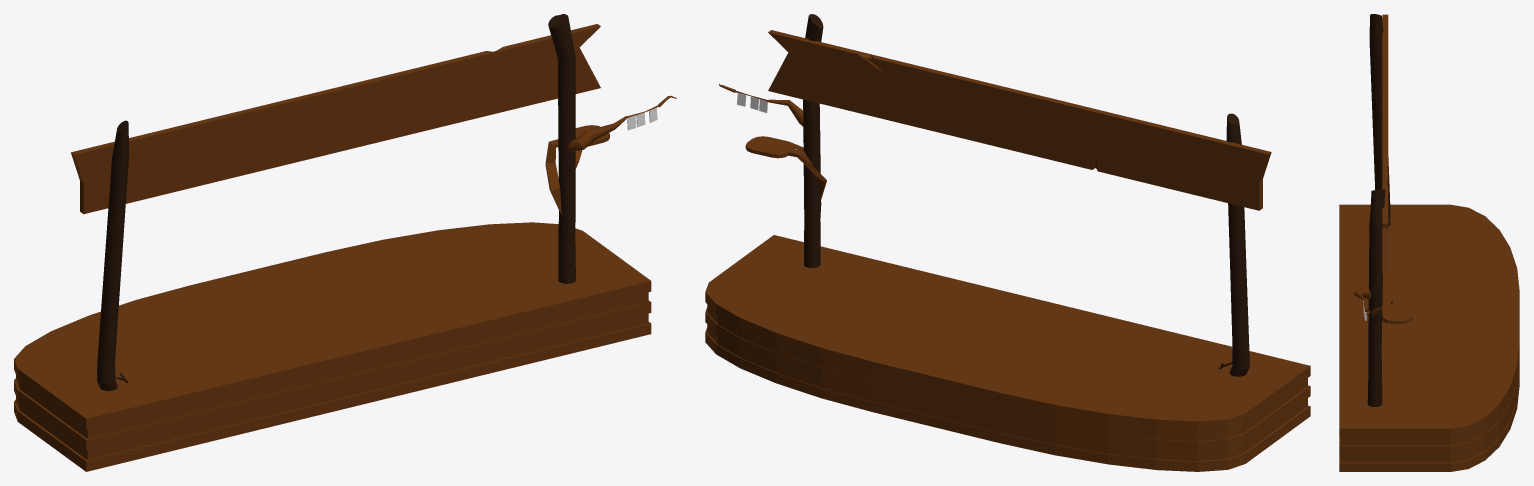
File: Stage.fbx
The picture shows the model from 3 angles, left to right: view 1: azimuth 30°, elevation 25°; view 2: azimuth 150°, elevation 25°; view 3: azimuth 270°, elevation 25°; orthographic projection. The views are drawn at different scales.
Parts seen in each view (by area): view 1: Cube, Cube.001, Cylinder.001, Cylinder, Cube.002, Cylinder.003; view 2: Cube, Cube.001, Cylinder, Cylinder.001, Cube.002; view 3: Cube, Cylinder.001, Cylinder, Cube.001, Cube.002.
Boxes of the visible parts, bbox=[...] form: Cube: bbox=[14, 222, 651, 471]; Cube.001: bbox=[71, 24, 600, 214]; Cylinder.001: bbox=[548, 14, 575, 283]; Cylinder: bbox=[97, 120, 129, 390]; Cube.002: bbox=[545, 125, 609, 214]; Cylinder.003: bbox=[568, 95, 676, 151]; Cube: bbox=[705, 235, 1310, 471]; Cube.001: bbox=[768, 30, 1271, 210]; Cylinder: bbox=[1226, 113, 1249, 376]; Cylinder.001: bbox=[803, 14, 823, 267]; Cube.002: bbox=[745, 136, 826, 199]; Cube: bbox=[1339, 204, 1519, 471]; Cylinder.001: bbox=[1367, 189, 1385, 406]; Cylinder: bbox=[1369, 14, 1390, 226]; Cube.001: bbox=[1382, 14, 1388, 273]; Cube.002: bbox=[1371, 299, 1411, 323].
Size of the model in its own units: 632 by 317 by 200.
